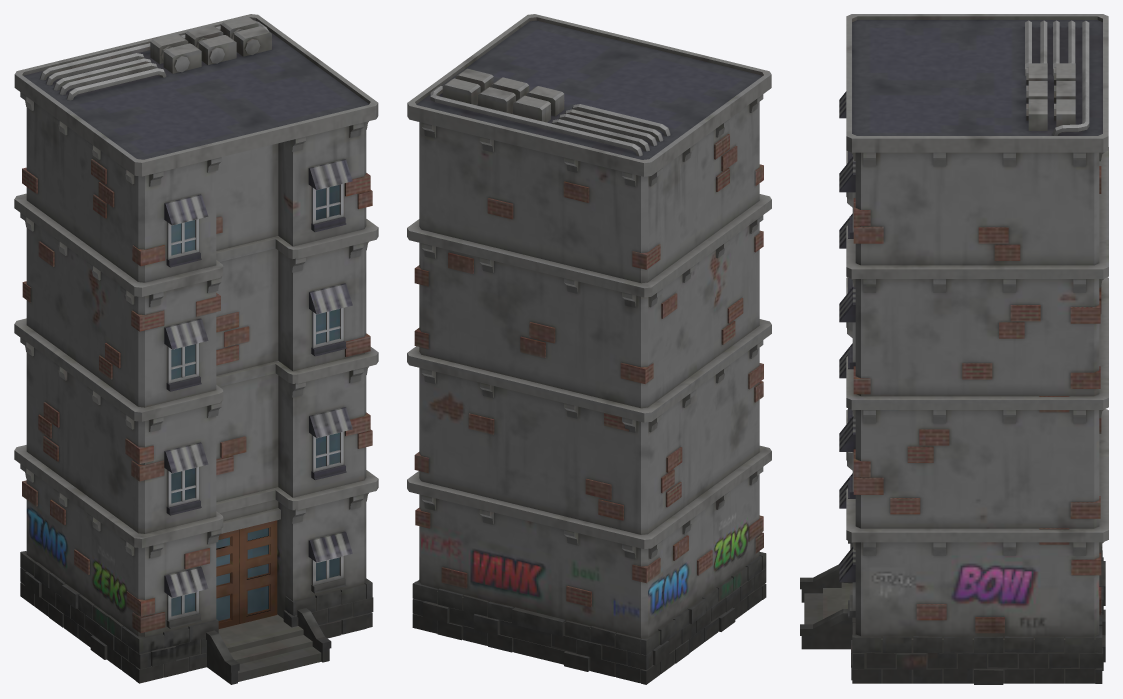
Rendered from 4Story_Center.glb.
3 views of the same model, side by side, from view 1: azimuth 30°, elevation 25°; view 2: azimuth 150°, elevation 25°; view 3: azimuth 270°, elevation 25° (orthographic). The views are drawn at different scales.
Visible parts, largest first — view 1: 4Story_Center_low; view 2: 4Story_Center_low; view 3: 4Story_Center_low.
Part boxes in pixels (x1=…): 4Story_Center_low: x1=14, y1=14, x2=378, y2=684; 4Story_Center_low: x1=407, y1=14, x2=771, y2=684; 4Story_Center_low: x1=800, y1=14, x2=1108, y2=684.
Size of the model in its own units: 2.42 by 5.09 by 2.53.
Materials: 2 (2 with a texture image).
